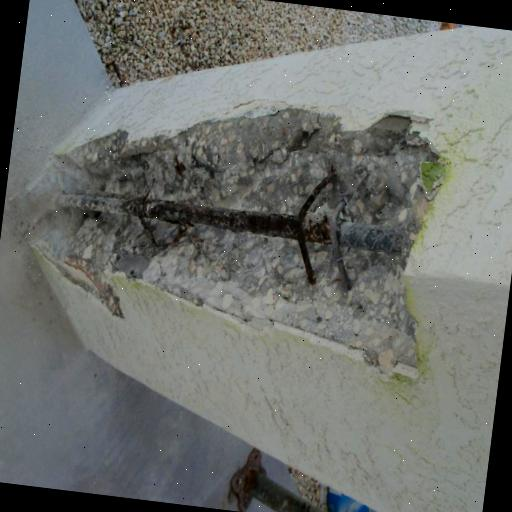spalling: (25, 116, 442, 364)
